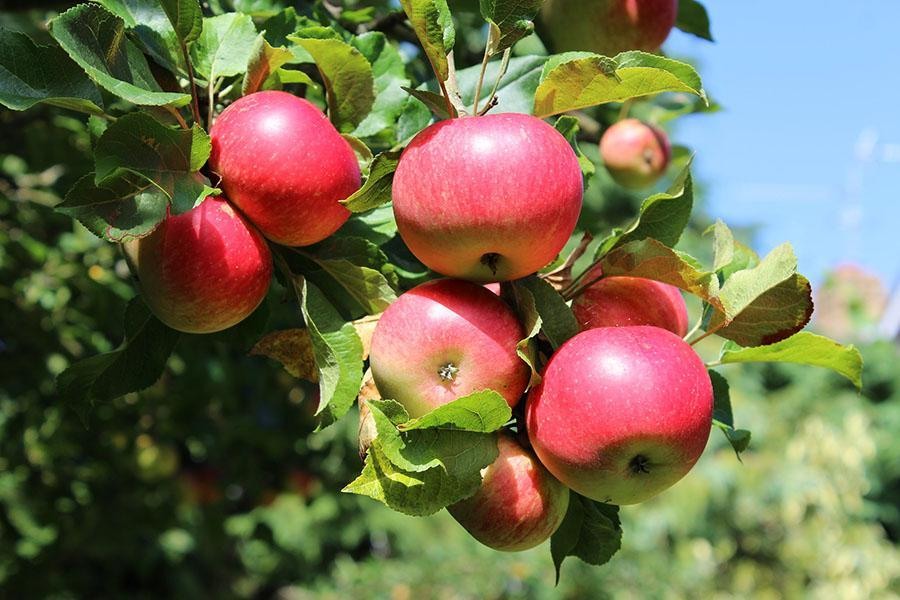apple: (522, 327, 711, 506), (390, 113, 583, 284), (208, 90, 360, 248), (367, 277, 530, 422), (133, 194, 270, 336), (451, 438, 566, 552), (570, 275, 690, 337)
